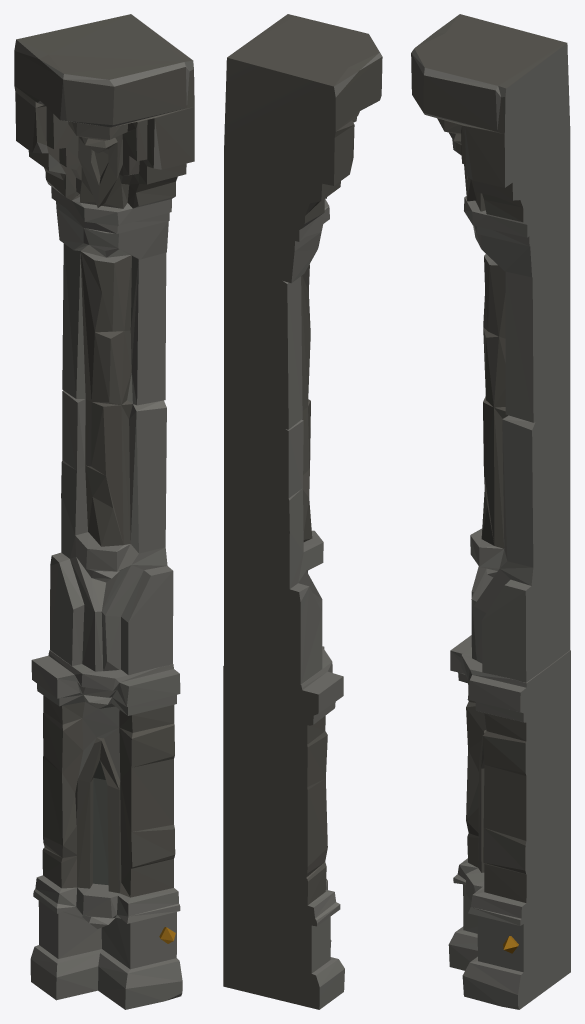
Rendered from MDungeon_PillarSmall_FullQauter.FBX.
3 views of the same model, side by side, from view 1: azimuth 30°, elevation 25°; view 2: azimuth 150°, elevation 25°; view 3: azimuth 330°, elevation 25° (orthographic). The views are drawn at different scales.
Visible parts, largest first — view 1: MDungeon_PillarSmall_FullQauter_LOD0; view 2: MDungeon_PillarSmall_FullQauter_LOD0; view 3: MDungeon_PillarSmall_FullQauter_LOD0.
Boxes of the visible parts, left/top/right/bottom form: MDungeon_PillarSmall_FullQauter_LOD0: left=14, top=14, right=194, bottom=1009; MDungeon_PillarSmall_FullQauter_LOD0: left=223, top=14, right=382, bottom=1009; MDungeon_PillarSmall_FullQauter_LOD0: left=411, top=14, right=570, bottom=1009.
Size of what is drawn, in the model's own units: 1.53 by 12.05 by 1.56.
